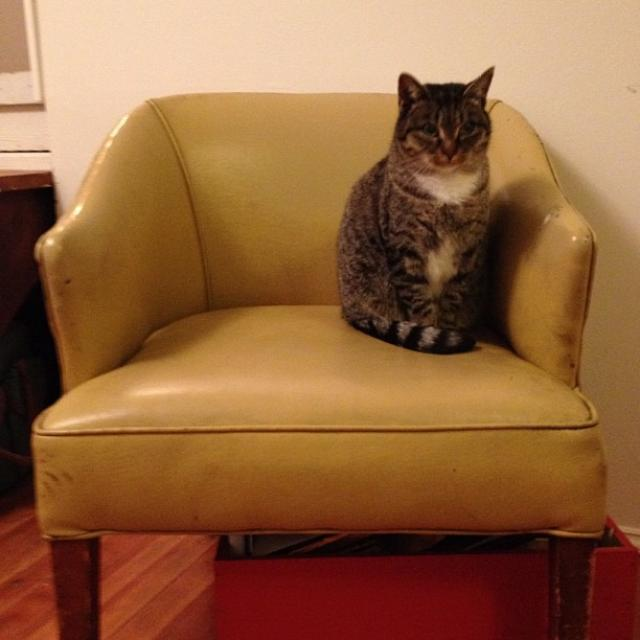cats: (334, 66, 502, 359)
